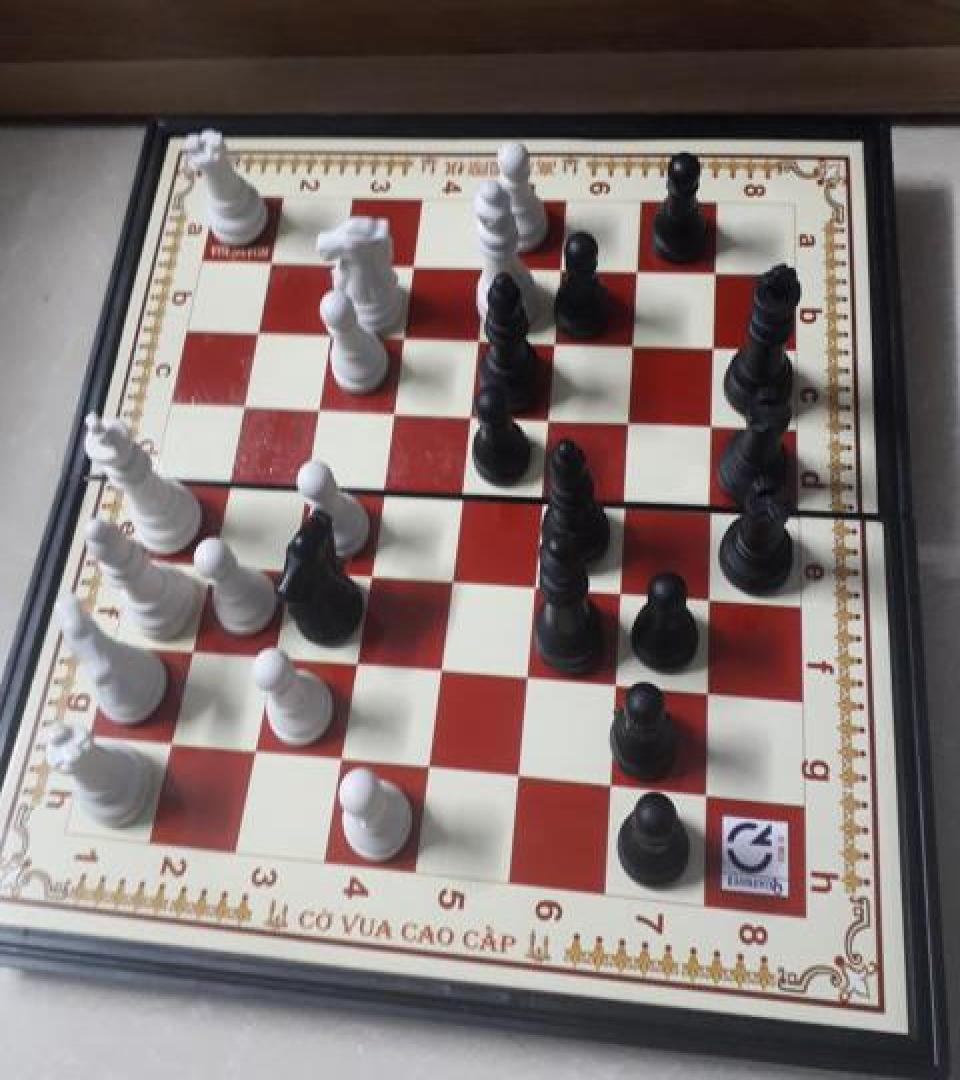xcorner: (605, 571, 637, 608), (191, 543, 223, 580), (238, 732, 270, 769), (698, 256, 730, 292), (620, 253, 652, 289), (543, 251, 575, 287), (468, 248, 500, 284), (395, 246, 427, 282), (323, 245, 355, 281), (252, 243, 284, 279), (616, 325, 648, 361), (538, 323, 570, 359), (461, 320, 493, 356), (385, 317, 417, 353), (311, 314, 343, 350), (238, 312, 270, 348), (696, 406, 728, 442), (613, 402, 645, 438), (532, 398, 564, 434), (452, 395, 484, 431), (374, 392, 406, 428), (298, 387, 330, 423), (695, 490, 727, 526), (609, 484, 641, 520), (525, 479, 557, 515), (443, 475, 475, 511), (363, 470, 395, 506), (285, 466, 317, 502), (208, 461, 240, 497), (694, 577, 726, 613), (518, 566, 550, 602), (434, 560, 466, 596), (351, 554, 383, 590), (270, 549, 302, 585), (692, 673, 724, 709), (601, 665, 633, 701), (511, 658, 543, 694), (424, 652, 456, 688), (338, 644, 370, 680), (255, 637, 287, 673), (173, 630, 205, 666), (691, 775, 723, 811), (596, 766, 628, 802), (503, 757, 535, 793), (413, 748, 445, 784), (324, 740, 356, 776), (154, 724, 186, 760), (697, 329, 729, 364), (224, 384, 256, 419)
